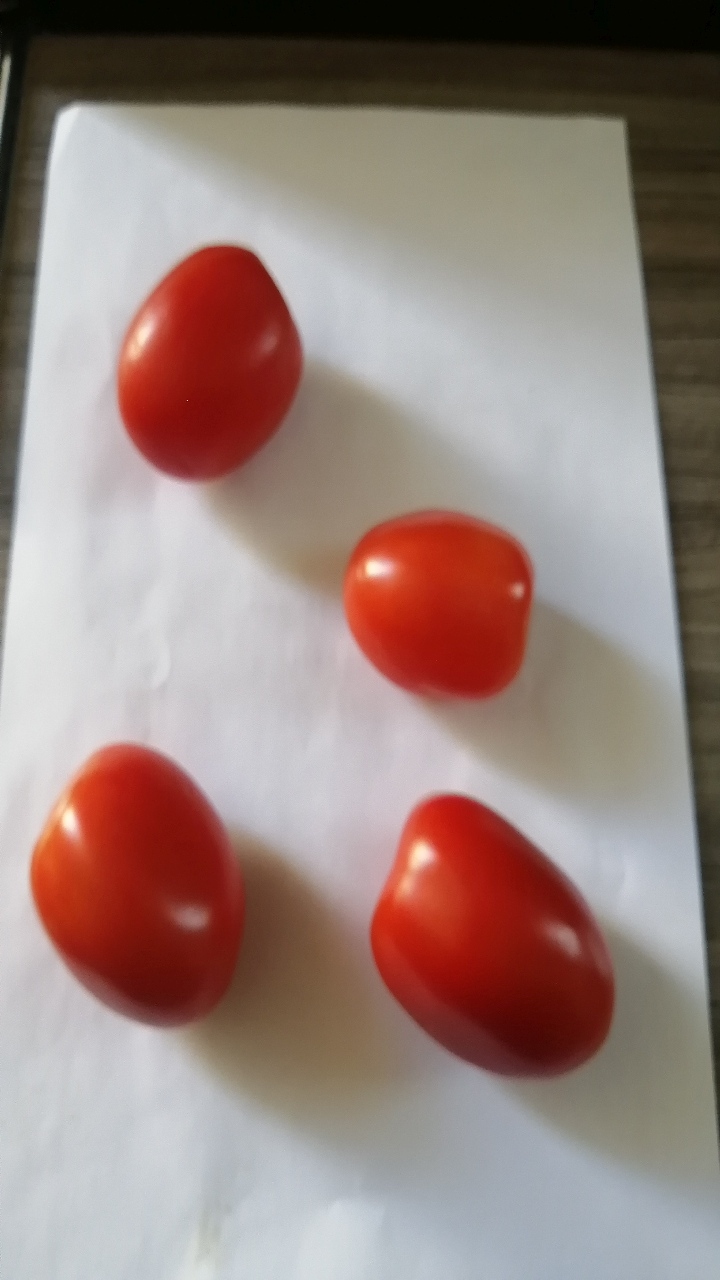tomateRojo: (352, 783, 628, 1086), (23, 719, 274, 1045), (92, 214, 311, 508), (317, 495, 577, 725)
